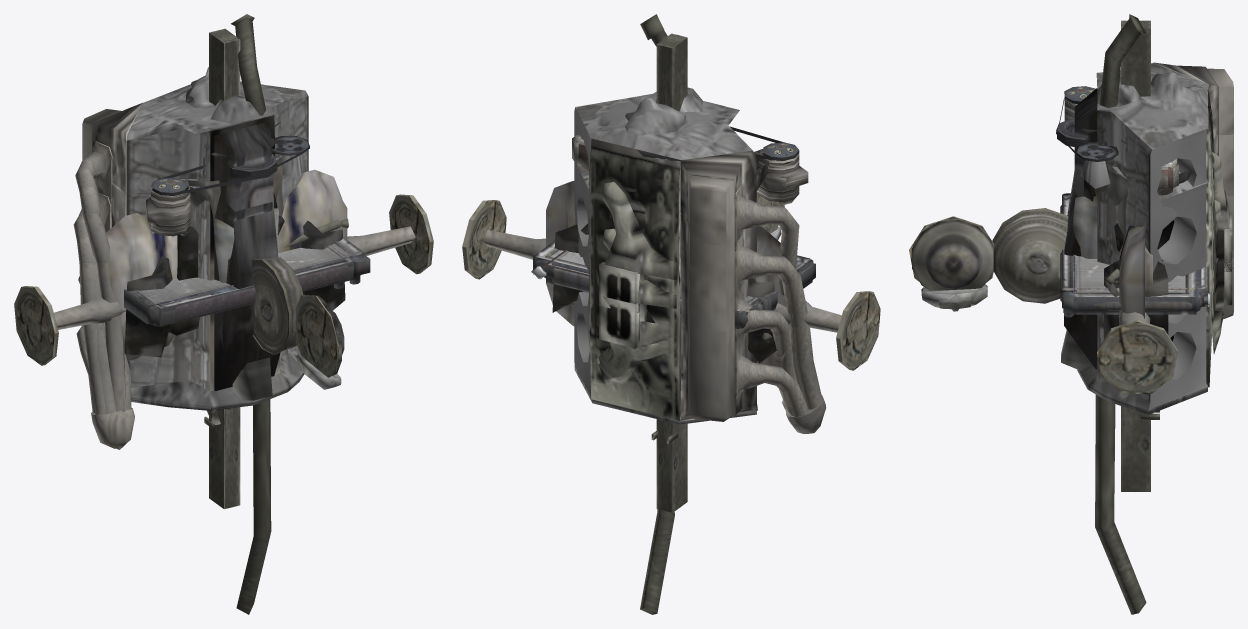
File: Engine parts.FBX
3 views of the same model, side by side, from view 1: azimuth 30°, elevation 25°; view 2: azimuth 150°, elevation 25°; view 3: azimuth 270°, elevation 25° (orthographic).
Visible parts, largest first — view 1: GasV8, GasV6, gastank, RAxle, V8Exhaust, Pipe2, FramePart1, Drum, Struct, V6Exhaust, rad2, gearbox (+9 smaller); view 2: V8Admission, V8Cover, GasV8, V6Admission, V6Exhaust, RAxle, FramePart1, V8Head, V8Exhaust, gastank, AC, Pipe2 (+6 smaller); view 3: GasV8, Pipe2, GasV6, Drum, RAxle, BrakeDisk, FramePart1, rad2, gearbox, V6Admission, gastank, V8Admission (+11 smaller).
Boxes of the visible parts, x1,y1,x2,y2 form: GasV8: [126, 67, 308, 410]; GasV6: [126, 155, 308, 409]; gastank: [104, 169, 347, 360]; RAxle: [14, 194, 433, 365]; V8Exhaust: [75, 141, 134, 449]; Pipe2: [231, 14, 271, 614]; FramePart1: [209, 28, 240, 509]; Drum: [251, 257, 303, 354]; Struct: [124, 215, 345, 357]; V6Exhaust: [73, 193, 127, 448]; rad2: [124, 237, 370, 324]; gearbox: [156, 155, 282, 400]; V8Admission: [589, 139, 680, 420]; V8Cover: [688, 175, 734, 421]; GasV8: [574, 87, 756, 424]; V6Admission: [589, 203, 680, 414]; V6Exhaust: [735, 235, 826, 433]; RAxle: [462, 200, 880, 370]; FramePart1: [656, 33, 687, 512]; V8Head: [680, 151, 757, 421]; V8Exhaust: [734, 185, 805, 433]; gastank: [546, 181, 789, 366]; AC: [730, 126, 808, 204]; Pipe2: [640, 14, 674, 614]; GasV8: [1064, 63, 1208, 414]; Pipe2: [1095, 14, 1146, 614]; GasV6: [1064, 166, 1208, 413]; Drum: [992, 208, 1068, 303]; RAxle: [1097, 312, 1177, 393]; BrakeDisk: [912, 219, 993, 290]; FramePart1: [1121, 20, 1150, 491]; rad2: [1063, 193, 1207, 314]; gearbox: [1061, 170, 1192, 370]; V6Admission: [1206, 183, 1232, 376]; gastank: [1119, 225, 1152, 318]; V8Admission: [1206, 88, 1232, 387].
Bounding box in the file's own units: 133 × 202 × 99.4.
